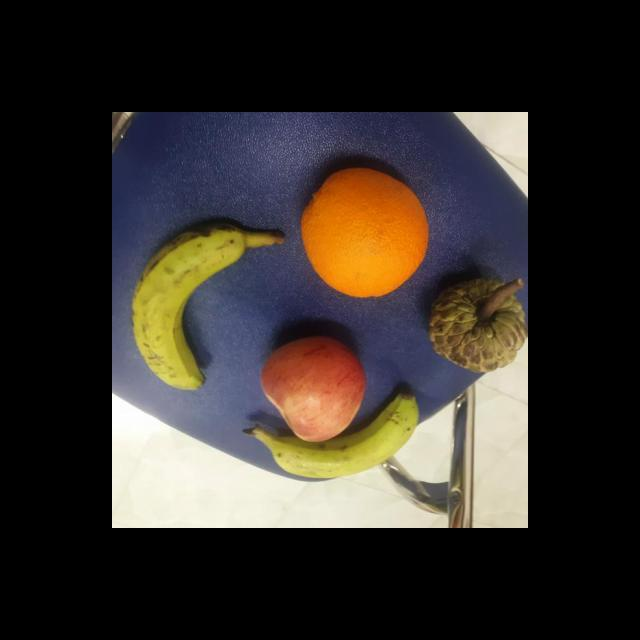Sakya fruit: (429, 276, 528, 376)
apple: (255, 329, 368, 444)
banana: (128, 219, 245, 389)
orange: (301, 165, 429, 299)
